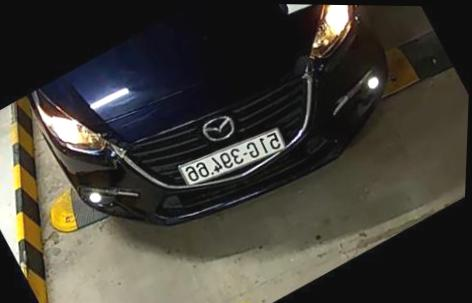License_Plate: (175, 122, 291, 195)
